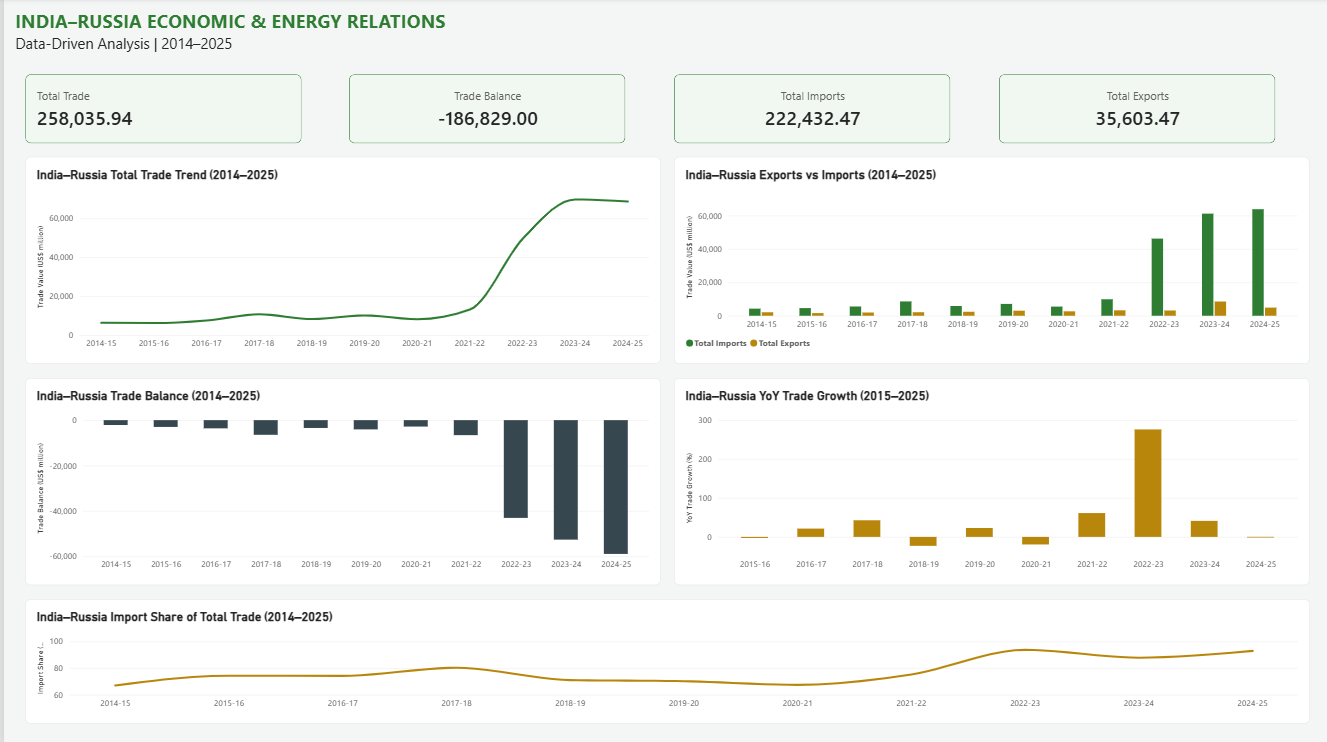

The dashboard page shown, as its layout file describes it:
{"tool":"powerbi","page":{"name":"Dashboard","canvas":[1920,1080],"ordinal":0},"visuals":[{"type":"textbox","box":[16,14,1860,46],"z":0},{"type":"textbox","box":[16,50,1860,30],"z":1000},{"type":"cardVisual","fields":{"Data":["Trade_Data.Total Exports"]},"box":[1440,110,400,100],"z":2000},{"type":"cardVisual","fields":{"Data":["Trade_Data.Total Imports"]},"box":[970,110,400,100],"z":3000},{"type":"cardVisual","fields":{"Data":["Trade_Data.Trade Balance"]},"box":[500,110,400,100],"z":4000},{"type":"lineChart","title":"India–Russia Total Trade Trend (2014–2025)","fields":{"Category":["Trade_Data.Financial_Year"],"Y":["Trade_Data.Total Trade"]},"box":[30,230,920,300],"z":5000},{"type":"clusteredColumnChart","title":"India–Russia Exports vs Imports (2014–2025)","fields":{"Category":["Trade_Data.Financial_Year"],"Y":["Trade_Data.Total Imports","Trade_Data.Total Exports"]},"box":[970,230,920,300],"z":6000},{"type":"clusteredColumnChart","title":"India–Russia Trade Balance (2014–2025)","fields":{"Category":["Trade_Data.Financial_Year"],"Y":["Trade_Data.Trade Balance"]},"box":[30,550,920,300],"z":7000},{"type":"clusteredColumnChart","title":"India–Russia YoY Trade Growth (2015–2025)","fields":{"Category":["Trade_Data.Financial_Year"],"Y":["Trade_Data.Average YoY Trade Growth"]},"box":[970,550,920,300],"z":8000},{"type":"lineChart","title":"India–Russia Import Share of Total Trade (2014–2025)","fields":{"Category":["Trade_Data.Financial_Year"],"Y":["Trade_Data.Average Import Share"]},"box":[30,870,1860,180],"z":9000},{"type":"cardVisual","fields":{"Data":["Trade_Data.Total Trade"]},"box":[30,110,400,100],"z":10000}]}

Visuals, with their boxes in screenshot pixels (x1, y1, x2, y2), scaled from the page's 1920x1080 canvas onto the 1327x742 screenshot:
textbox: <bbox>11, 10, 1297, 41</bbox>
textbox: <bbox>11, 34, 1297, 55</bbox>
cardVisual - Trade_Data.Total Exports: <bbox>995, 76, 1272, 144</bbox>
cardVisual - Trade_Data.Total Imports: <bbox>670, 76, 947, 144</bbox>
cardVisual - Trade_Data.Trade Balance: <bbox>346, 76, 622, 144</bbox>
"India–Russia Total Trade Trend (2014–2025)" lineChart: <bbox>21, 158, 657, 364</bbox>
"India–Russia Exports vs Imports (2014–2025)" clusteredColumnChart: <bbox>670, 158, 1306, 364</bbox>
"India–Russia Trade Balance (2014–2025)" clusteredColumnChart: <bbox>21, 378, 657, 584</bbox>
"India–Russia YoY Trade Growth (2015–2025)" clusteredColumnChart: <bbox>670, 378, 1306, 584</bbox>
"India–Russia Import Share of Total Trade (2014–2025)" lineChart: <bbox>21, 598, 1306, 721</bbox>
cardVisual - Trade_Data.Total Trade: <bbox>21, 76, 297, 144</bbox>
